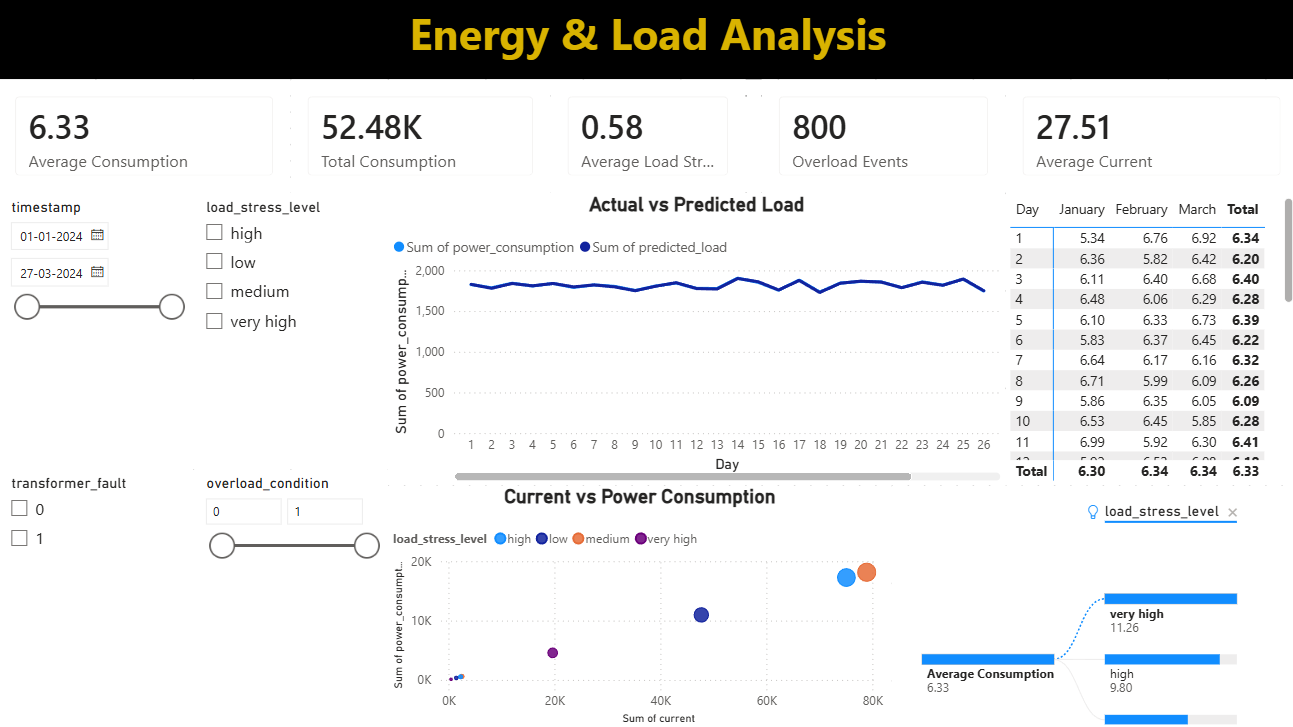

Layout of this report page (visuals, bound fields, positions):
{"tool":"powerbi","page":{"name":"Energy & Load Analysis","canvas":[1280,720],"ordinal":1},"visuals":[{"type":"textbox","box":[0,0,1280,80],"z":0},{"type":"cardVisual","fields":{"Data":["energy_data.Average Consumption"]},"box":[0,80,288,112],"z":1},{"type":"cardVisual","fields":{"Data":["energy_data.Total Consumption"]},"box":[288,80,256,112],"z":2},{"type":"cardVisual","fields":{"Data":["energy_data.Average Current"]},"box":[992,80,288,112],"z":3},{"type":"cardVisual","fields":{"Data":["energy_data.Overload Events"]},"box":[752,80,240,112],"z":4},{"type":"cardVisual","fields":{"Data":["energy_data.Average Load Stress"]},"box":[544,80,192,112],"z":5},{"type":"slicer","fields":{"Values":["energy_data.timestamp"]},"box":[0,192,192,272],"z":6},{"type":"slicer","fields":{"Values":["energy_data.transformer_fault"]},"box":[0,464,192,256],"z":7},{"type":"slicer","fields":{"Values":["energy_data.load_stress_level"]},"box":[192,192,192,272],"z":8},{"type":"slicer","fields":{"Values":["energy_data.overload_condition"]},"box":[192,464,192,256],"z":9},{"type":"lineChart","title":"Actual vs Predicted Load","fields":{"Category":["energy_data.timestamp.Variation.Date Hierarchy.Day"],"Y":["Sum(energy_data.power_consumption)","Sum(energy_data.predicted_load)"]},"box":[384,192,608,288],"z":10},{"type":"pivotTable","fields":{"Values":["energy_data.Average Consumption"],"Columns":["energy_data.timestamp.Variation.Date Hierarchy.Month"],"Rows":["energy_data.timestamp.Variation.Date Hierarchy.Day"]},"box":[992,192,288,288],"z":11},{"type":"scatterChart","title":"Current vs Power Consumption","fields":{"X":["Sum(energy_data.current)"],"Y":["Sum(energy_data.power_consumption)"],"Size":["Sum(energy_data.apparent_power)"],"Series":["energy_data.load_stress_level"],"Category":["energy_data.transformer_fault"]},"box":[384,480,496,240],"z":12},{"type":"decompositionTreeVisual","fields":{"Analyze":["energy_data.Average Consumption"],"ExplainBy":["energy_data.load_stress_level"]},"box":[880,480,400,240],"z":13}]}

Visuals, with their boxes in screenshot pixels (x1, y1, x2, y2), scaled from the page's 1280x720 canvas onto the 1293x727 screenshot:
textbox: <box>0,0,1292,81</box>
cardVisual - energy_data.Average Consumption: <box>0,81,291,194</box>
cardVisual - energy_data.Total Consumption: <box>291,81,550,194</box>
cardVisual - energy_data.Average Current: <box>1002,81,1292,194</box>
cardVisual - energy_data.Overload Events: <box>760,81,1002,194</box>
cardVisual - energy_data.Average Load Stress: <box>550,81,743,194</box>
slicer - energy_data.timestamp: <box>0,194,194,469</box>
slicer - energy_data.transformer_fault: <box>0,469,194,726</box>
slicer - energy_data.load_stress_level: <box>194,194,388,469</box>
slicer - energy_data.overload_condition: <box>194,469,388,726</box>
"Actual vs Predicted Load" lineChart: <box>388,194,1002,485</box>
pivotTable - energy_data.Average Consumption x energy_data.timestamp.Variation.Date Hierarchy.Month: <box>1002,194,1292,485</box>
"Current vs Power Consumption" scatterChart: <box>388,485,889,726</box>
decompositionTreeVisual - energy_data.Average Consumption x energy_data.load_stress_level: <box>889,485,1292,726</box>
